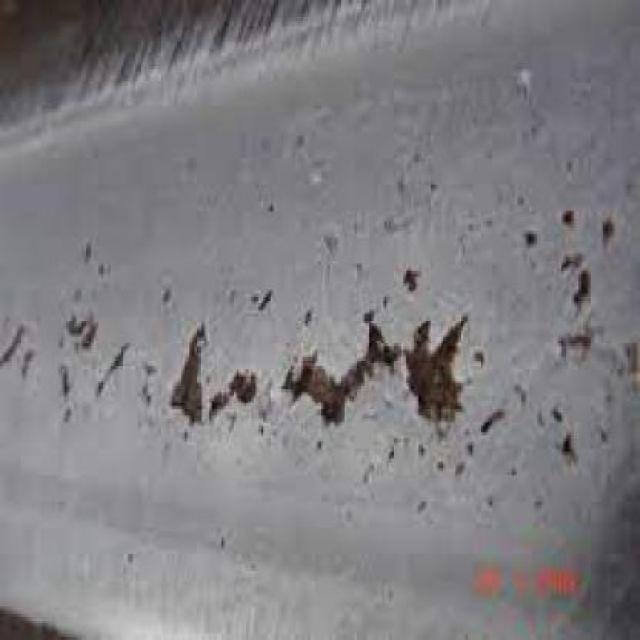defective: (6, 34, 640, 635)
